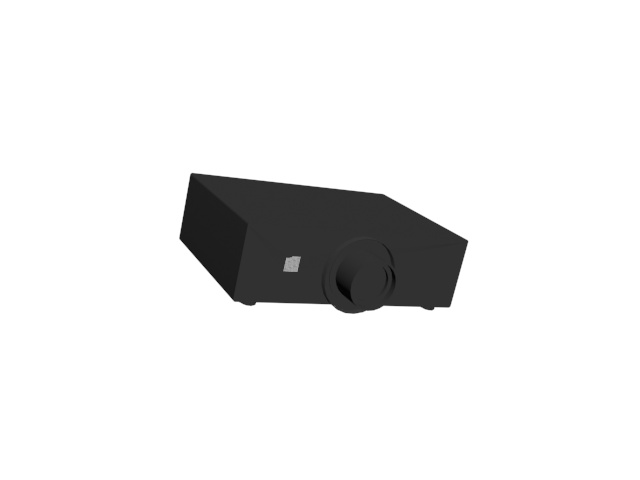projector: (177, 169, 472, 320)
